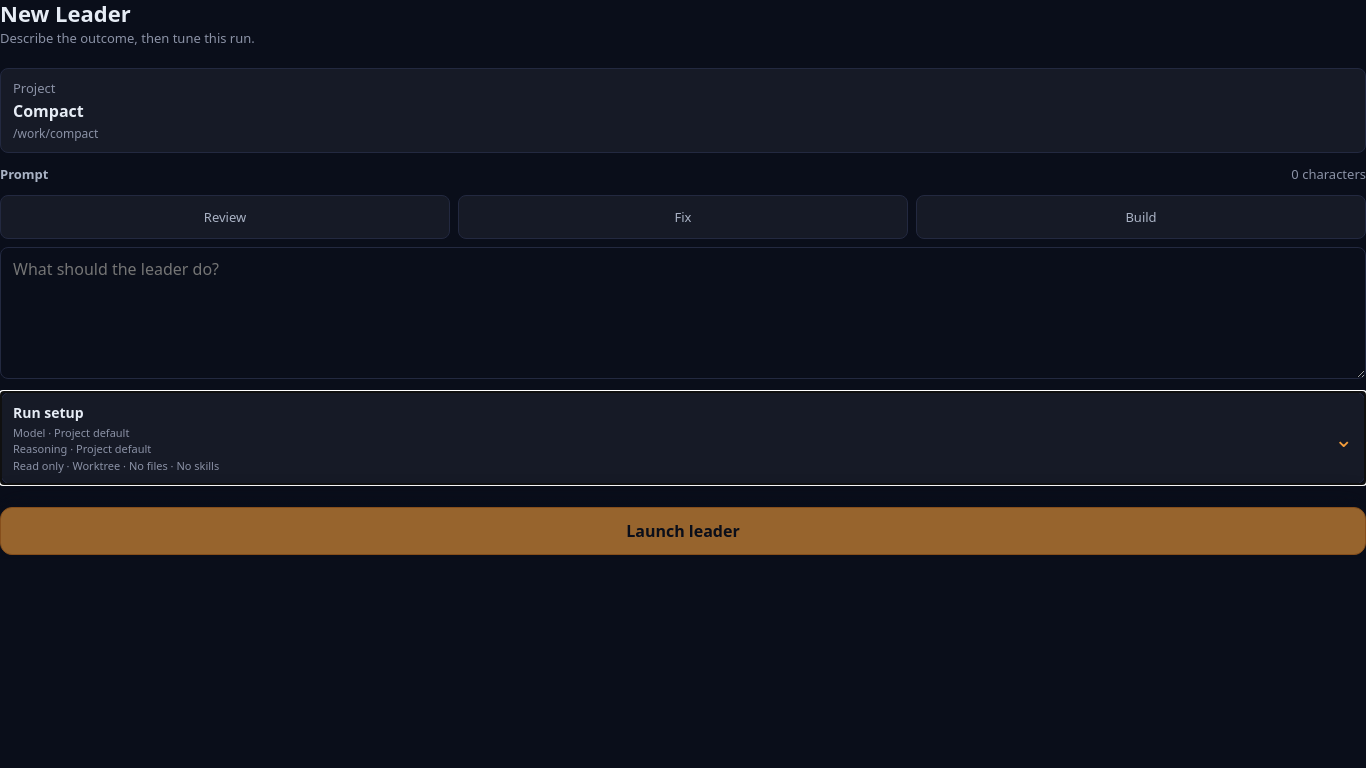
it: LaunchScreen › keeps run setup collapsed behind a native, truthful disclosure
Expected: the text "Model · Project default" is shown, [13,425,129,440]
Expected: the text "Read only · Worktree · No files · No skills" is shown, [13,458,219,473]
Step 1. Click the heading that starts with "Run setup" → click(48, 412), box [1,392,1365,484]
(page scrolled)
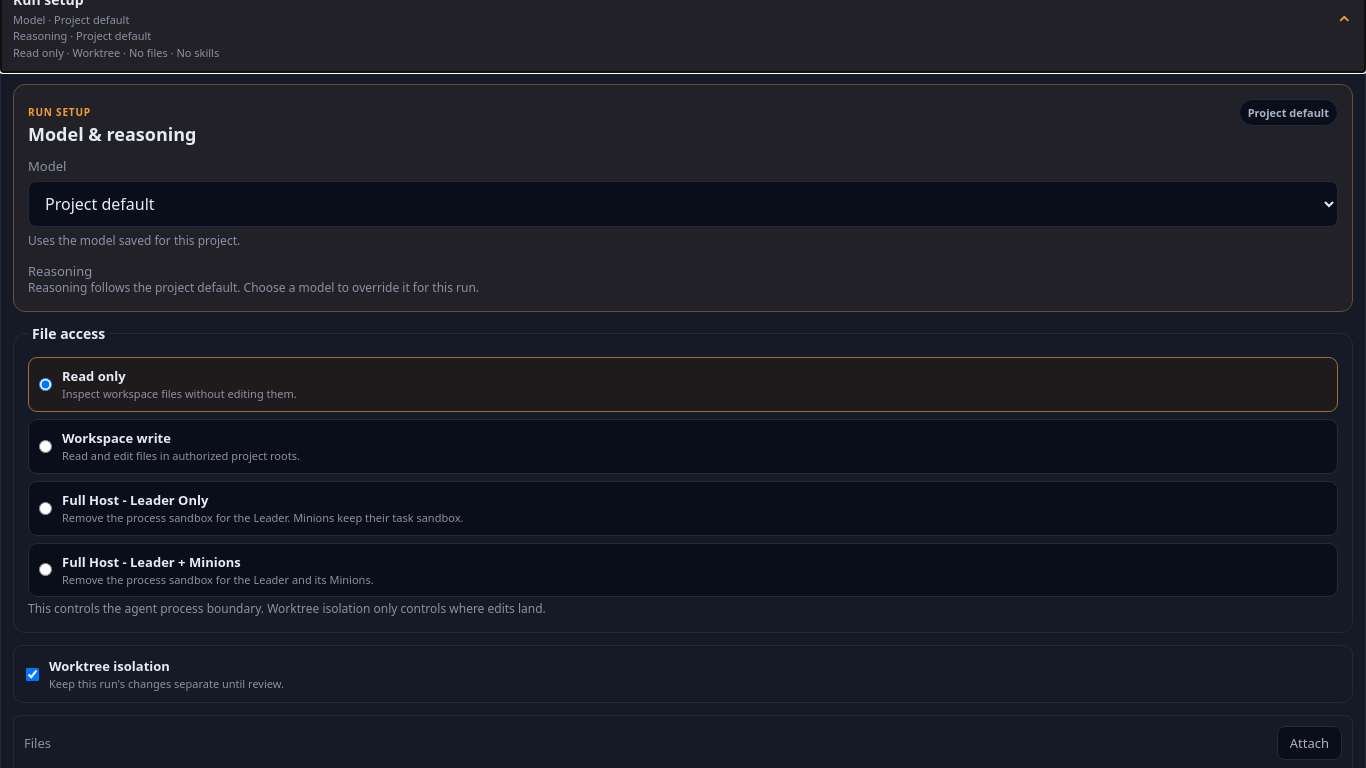
Now the dropdown labelled "Model" is shown, box [28,181,1338,227]
Now the checkbox labelled "Worktree isolation" is checked, box [26,668,39,681]
Now the radio button labelled "Read only" is checked, box [39,378,52,391]
